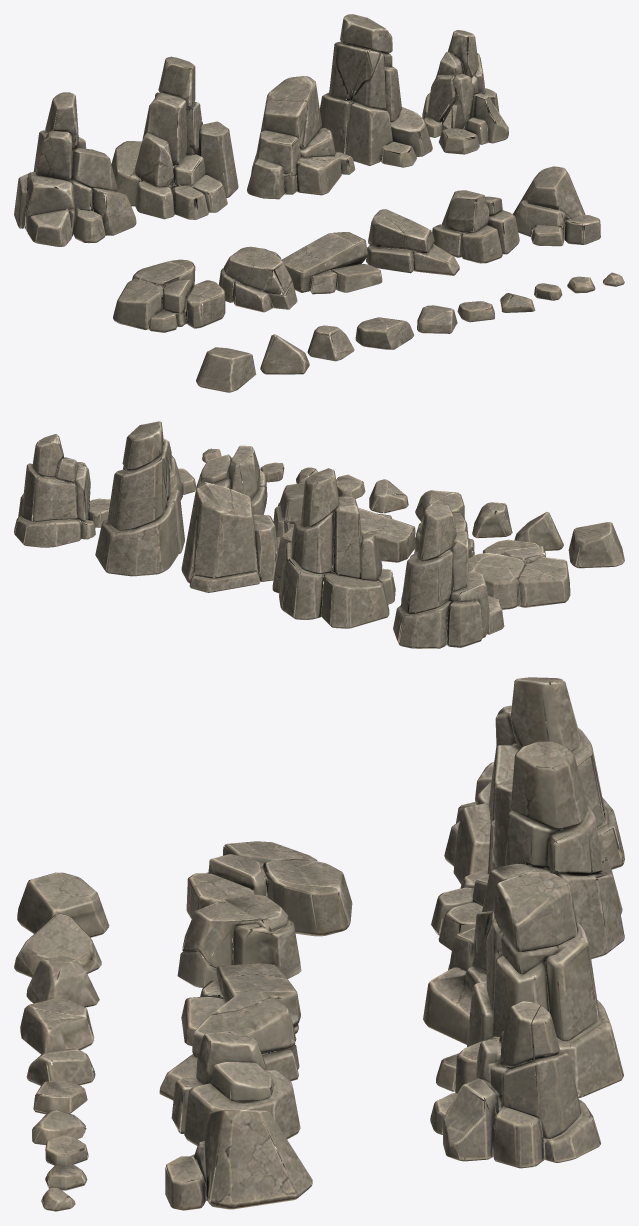
Rendered from Set_Rocas_Rectanculares.glb.
3 renders of one model, top to bottom at view 1: azimuth 30°, elevation 25°; view 2: azimuth 150°, elevation 25°; view 3: azimuth 270°, elevation 25°, orthographic. The views are drawn at different scales.
Visible parts, largest first — view 1: tripo_node_40d2da4b-2dc3-4af9-9b7b-49537194fc57; view 2: tripo_node_40d2da4b-2dc3-4af9-9b7b-49537194fc57; view 3: tripo_node_40d2da4b-2dc3-4af9-9b7b-49537194fc57.
Boxes of the visible parts, x1,y1,x2,y2 form: tripo_node_40d2da4b-2dc3-4af9-9b7b-49537194fc57: (14,14,624,392); tripo_node_40d2da4b-2dc3-4af9-9b7b-49537194fc57: (14,421,624,648); tripo_node_40d2da4b-2dc3-4af9-9b7b-49537194fc57: (14,677,624,1211).
Size of the model in its own units: 0.9995 by 0.353 by 0.7397.
Materials: 1 (1 with a texture image).
